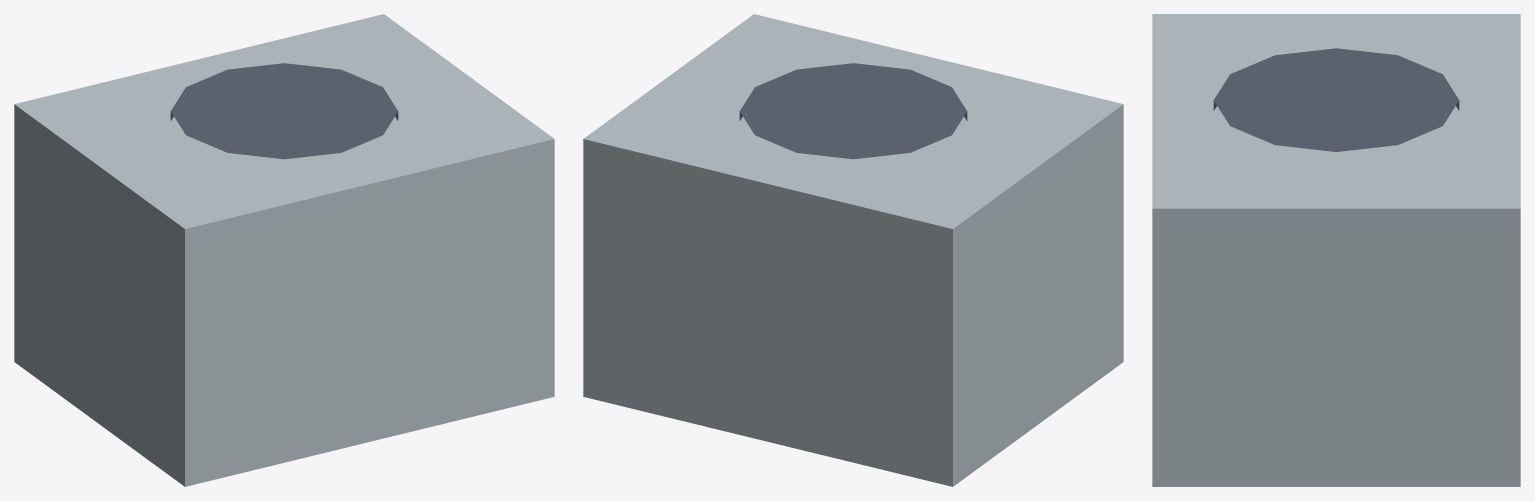
The model's file is ac_unit.glb.
3 renders of one model, left to right at view 1: azimuth 30°, elevation 25°; view 2: azimuth 150°, elevation 25°; view 3: azimuth 270°, elevation 25°, orthographic. The views are drawn at different scales.
Parts seen in each view (by area): view 1: unit, fan; view 2: unit, fan; view 3: unit, fan.
Boxes of the visible parts, x1,y1,x2,y2 form: unit: (14, 14, 554, 486); fan: (170, 63, 398, 159); unit: (583, 14, 1123, 486); fan: (739, 63, 967, 159); unit: (1152, 14, 1520, 486); fan: (1213, 48, 1459, 151).
Bounding box in the file's own units: 1.5 × 1.04 × 1.2.
